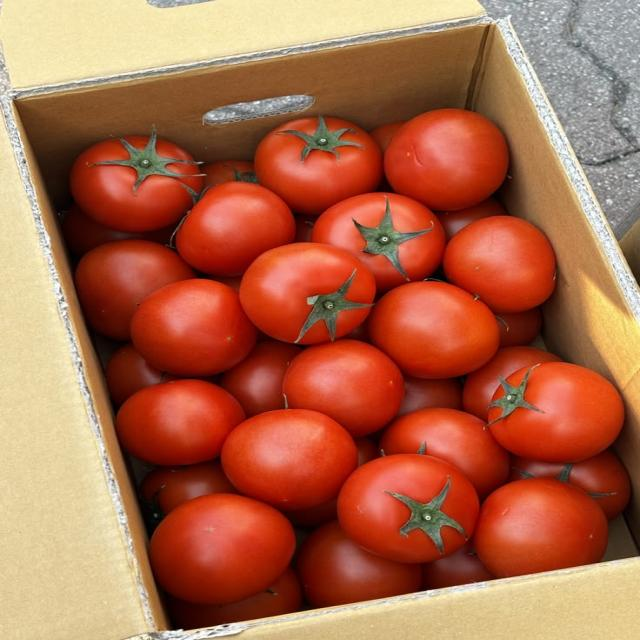tomato: (149, 494, 295, 604), (338, 454, 479, 563), (221, 409, 358, 510), (240, 243, 375, 344), (488, 362, 624, 462), (70, 128, 202, 231), (311, 192, 445, 293), (474, 478, 608, 577), (368, 281, 499, 378), (254, 116, 382, 215), (131, 278, 257, 377), (385, 109, 508, 210), (74, 239, 195, 341), (379, 408, 510, 501), (282, 338, 404, 437), (174, 182, 295, 276), (116, 379, 245, 465), (443, 216, 555, 315), (295, 520, 421, 607), (508, 449, 631, 520), (166, 567, 302, 628), (462, 346, 561, 420), (220, 340, 301, 417), (139, 458, 237, 521), (61, 203, 174, 256), (105, 342, 179, 406), (421, 539, 494, 589), (436, 196, 507, 242), (397, 375, 462, 416), (497, 306, 542, 347), (200, 160, 257, 187), (286, 498, 337, 528), (369, 121, 405, 152), (294, 214, 317, 242)
